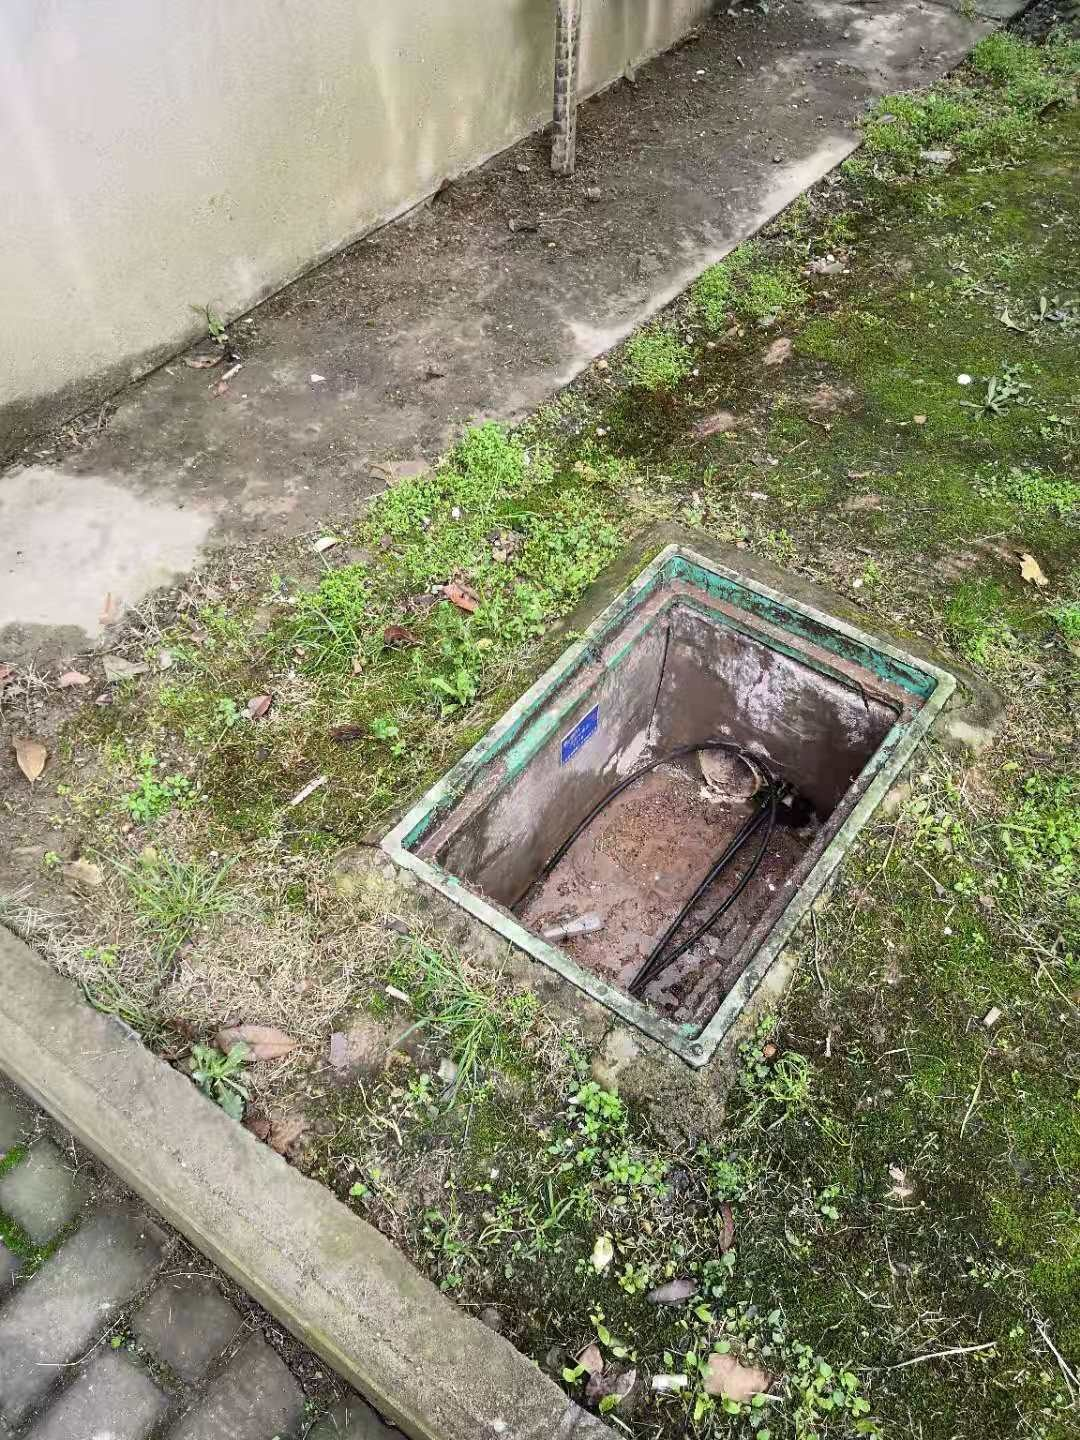lose: (385, 544, 953, 1067)
